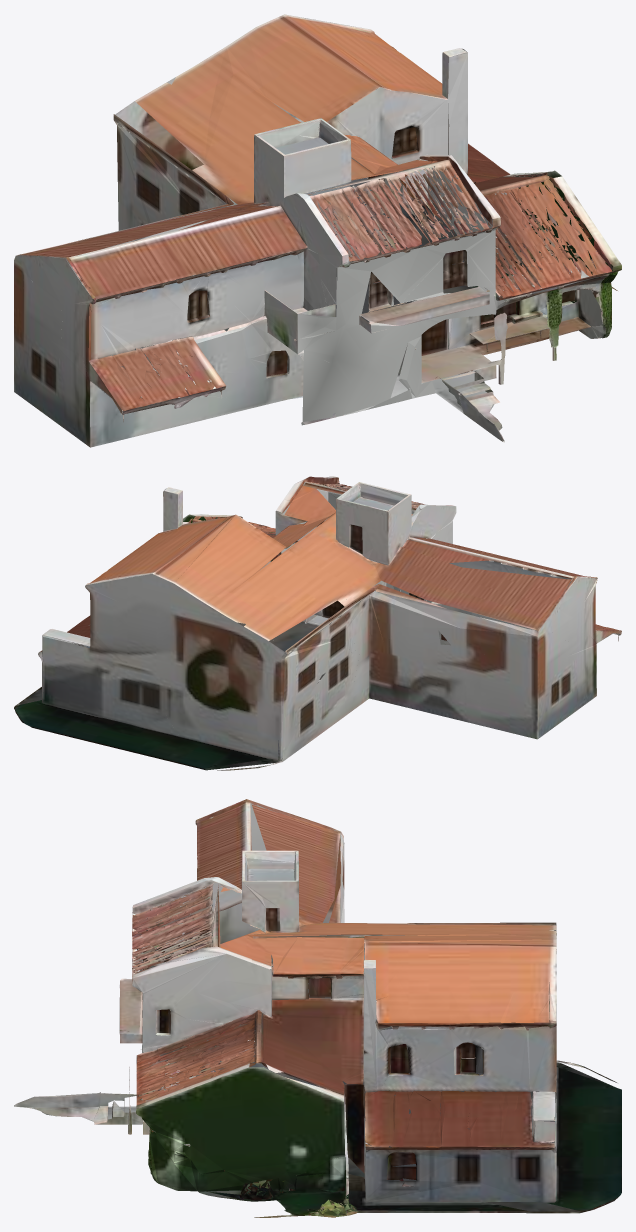
File: z_span.glb
3 renders of one model, top to bottom at view 1: azimuth 30°, elevation 25°; view 2: azimuth 150°, elevation 25°; view 3: azimuth 270°, elevation 25°, orthographic. The views are drawn at different scales.
Visible parts, largest first — view 1: Object_3, Object_4, Object_2; view 2: Object_3, Object_4, Object_2; view 3: Object_3, Object_4.
Part boxes in pixels (box(x1,y1,x2,y2)): Object_3: box(19, 14, 621, 442); Object_4: box(14, 101, 605, 447); Object_2: box(32, 136, 600, 441); Object_3: box(14, 476, 571, 770); Object_4: box(37, 482, 621, 770); Object_2: box(177, 483, 600, 708); Object_3: box(14, 805, 621, 1217); Object_4: box(119, 799, 616, 1213).
Size of the model in its own units: 1.9 by 0.7271 by 1.9.
Materials: 1 (1 with a texture image).
